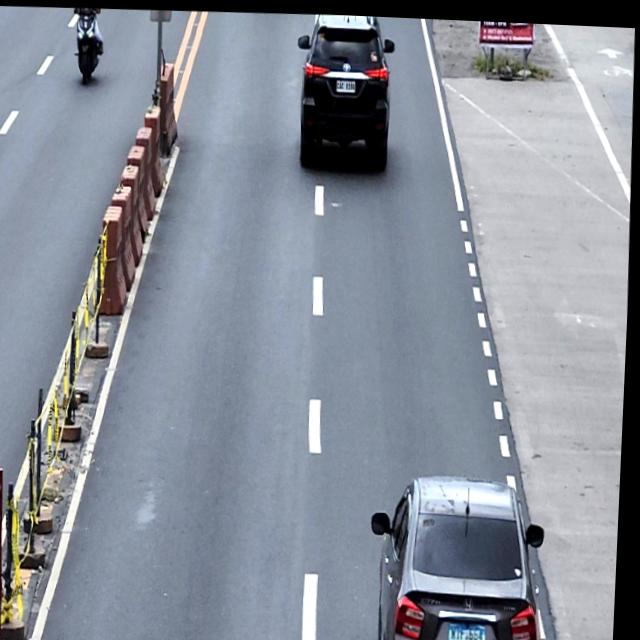Car: (370, 466, 554, 640), (293, 10, 398, 168)
License-Plate: (452, 616, 493, 640), (336, 76, 356, 90)
Motorcycle: (70, 6, 104, 84)
